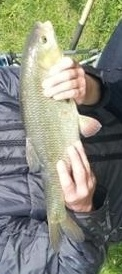Leuciscus idus: (20, 20, 102, 254)
